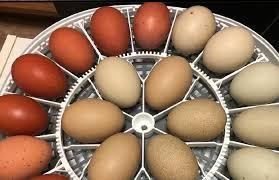egg: (144, 55, 192, 114), (60, 98, 124, 138), (11, 53, 65, 100), (167, 100, 228, 141), (203, 26, 253, 75), (46, 26, 98, 70), (97, 58, 141, 109), (90, 4, 132, 56), (0, 92, 49, 136), (172, 7, 216, 55), (233, 106, 279, 150), (134, 0, 172, 52)
